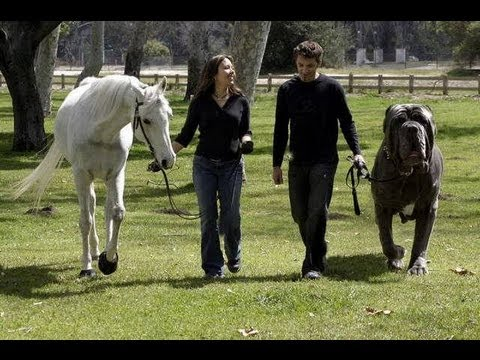Dog: (367, 93, 453, 292)
Horse: (15, 68, 178, 302)
Person: (267, 34, 368, 287), (171, 48, 261, 291)
